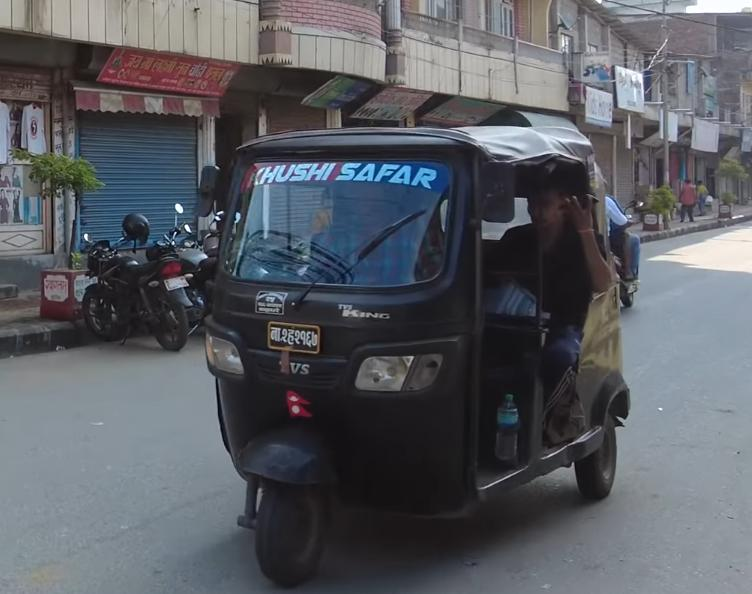auto_rickshaw: (195, 116, 636, 594)
bike: (75, 219, 194, 361)
